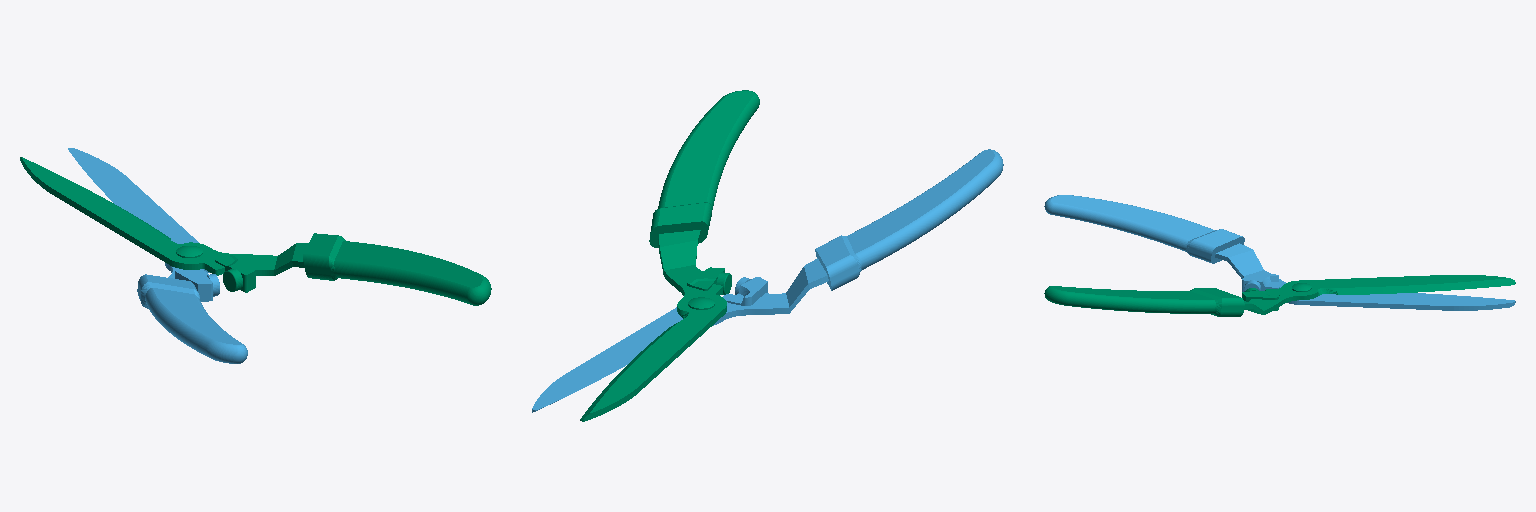
URDF robot description (partnet_1133b046-84e1-40d4-ab94-548fe59fb8f0):
<?xml version="1.0" ?>
<robot name="partnet_1133b046-84e1-40d4-ab94-548fe59fb8f0">
	<link name="base"/>
	<link name="link_0">
		<visual name="other_leaf-13">
			<origin xyz="0.2005842114635701 0.02750199361465766 0.012073427209372878"/>
			<geometry>
				<mesh filename="textured_objs/original-10.obj"/>
			</geometry>
		</visual>
		<visual name="other_leaf-13">
			<origin xyz="0.2005842114635701 0.02750199361465766 0.012073427209372878"/>
			<geometry>
				<mesh filename="textured_objs/original-8.obj"/>
			</geometry>
		</visual>
		<visual name="other_leaf-13">
			<origin xyz="0.2005842114635701 0.02750199361465766 0.012073427209372878"/>
			<geometry>
				<mesh filename="textured_objs/original-9.obj"/>
			</geometry>
		</visual>
		<visual name="blade-4">
			<origin xyz="0.2005842114635701 0.02750199361465766 0.012073427209372878"/>
			<geometry>
				<mesh filename="textured_objs/original-4.obj"/>
			</geometry>
		</visual>
		<visual name="blade-4">
			<origin xyz="0.2005842114635701 0.02750199361465766 0.012073427209372878"/>
			<geometry>
				<mesh filename="textured_objs/original-3.obj"/>
			</geometry>
		</visual>
		<visual name="handle-5">
			<origin xyz="0.2005842114635701 0.02750199361465766 0.012073427209372878"/>
			<geometry>
				<mesh filename="textured_objs/original-26.obj"/>
			</geometry>
		</visual>
		<visual name="handle-5">
			<origin xyz="0.2005842114635701 0.02750199361465766 0.012073427209372878"/>
			<geometry>
				<mesh filename="textured_objs/original-27.obj"/>
			</geometry>
		</visual>
		<visual name="handle-5">
			<origin xyz="0.2005842114635701 0.02750199361465766 0.012073427209372878"/>
			<geometry>
				<mesh filename="textured_objs/original-28.obj"/>
			</geometry>
		</visual>
		<collision>
			<origin xyz="0.2005842114635701 0.02750199361465766 0.012073427209372878"/>
			<geometry>
				<mesh filename="textured_objs/original-10.obj"/>
			</geometry>
		</collision>
		<collision>
			<origin xyz="0.2005842114635701 0.02750199361465766 0.012073427209372878"/>
			<geometry>
				<mesh filename="textured_objs/original-8.obj"/>
			</geometry>
		</collision>
		<collision>
			<origin xyz="0.2005842114635701 0.02750199361465766 0.012073427209372878"/>
			<geometry>
				<mesh filename="textured_objs/original-9.obj"/>
			</geometry>
		</collision>
		<collision>
			<origin xyz="0.2005842114635701 0.02750199361465766 0.012073427209372878"/>
			<geometry>
				<mesh filename="textured_objs/original-4.obj"/>
			</geometry>
		</collision>
		<collision>
			<origin xyz="0.2005842114635701 0.02750199361465766 0.012073427209372878"/>
			<geometry>
				<mesh filename="textured_objs/original-3.obj"/>
			</geometry>
		</collision>
		<collision>
			<origin xyz="0.2005842114635701 0.02750199361465766 0.012073427209372878"/>
			<geometry>
				<mesh filename="textured_objs/original-26.obj"/>
			</geometry>
		</collision>
		<collision>
			<origin xyz="0.2005842114635701 0.02750199361465766 0.012073427209372878"/>
			<geometry>
				<mesh filename="textured_objs/original-27.obj"/>
			</geometry>
		</collision>
		<collision>
			<origin xyz="0.2005842114635701 0.02750199361465766 0.012073427209372878"/>
			<geometry>
				<mesh filename="textured_objs/original-28.obj"/>
			</geometry>
		</collision>
	</link>
	<joint name="joint_0" type="revolute">
		<origin xyz="-0.2005842114635701 -0.02750199361465766 -0.012073427209372878"/>
		<axis xyz="0 -1 0"/>
		<child link="link_0"/>
		<parent link="link_1"/>
		<limit lower="-0.1759291886010284" upper="-0.0"/>
	</joint>
	<link name="link_1">
		<visual name="screw-3">
			<origin xyz="0 0 0"/>
			<geometry>
				<mesh filename="textured_objs/original-1.obj"/>
			</geometry>
		</visual>
		<visual name="screw-3">
			<origin xyz="0 0 0"/>
			<geometry>
				<mesh filename="textured_objs/original-24.obj"/>
			</geometry>
		</visual>
		<visual name="screw-3">
			<origin xyz="0 0 0"/>
			<geometry>
				<mesh filename="textured_objs/original-16.obj"/>
			</geometry>
		</visual>
		<visual name="screw-3">
			<origin xyz="0 0 0"/>
			<geometry>
				<mesh filename="textured_objs/original-5.obj"/>
			</geometry>
		</visual>
		<visual name="other_leaf-11">
			<origin xyz="0 0 0"/>
			<geometry>
				<mesh filename="textured_objs/original-15.obj"/>
			</geometry>
		</visual>
		<visual name="other_leaf-11">
			<origin xyz="0 0 0"/>
			<geometry>
				<mesh filename="textured_objs/original-13.obj"/>
			</geometry>
		</visual>
		<visual name="other_leaf-11">
			<origin xyz="0 0 0"/>
			<geometry>
				<mesh filename="textured_objs/original-14.obj"/>
			</geometry>
		</visual>
		<visual name="blade-6">
			<origin xyz="0 0 0"/>
			<geometry>
				<mesh filename="textured_objs/original-23.obj"/>
			</geometry>
		</visual>
		<visual name="blade-6">
			<origin xyz="0 0 0"/>
			<geometry>
				<mesh filename="textured_objs/original-22.obj"/>
			</geometry>
		</visual>
		<visual name="handle-7">
			<origin xyz="0 0 0"/>
			<geometry>
				<mesh filename="textured_objs/original-18.obj"/>
			</geometry>
		</visual>
		<visual name="handle-7">
			<origin xyz="0 0 0"/>
			<geometry>
				<mesh filename="textured_objs/original-20.obj"/>
			</geometry>
		</visual>
		<visual name="handle-7">
			<origin xyz="0 0 0"/>
			<geometry>
				<mesh filename="textured_objs/original-19.obj"/>
			</geometry>
		</visual>
		<collision>
			<origin xyz="0 0 0"/>
			<geometry>
				<mesh filename="textured_objs/original-1.obj"/>
			</geometry>
		</collision>
		<collision>
			<origin xyz="0 0 0"/>
			<geometry>
				<mesh filename="textured_objs/original-24.obj"/>
			</geometry>
		</collision>
		<collision>
			<origin xyz="0 0 0"/>
			<geometry>
				<mesh filename="textured_objs/original-16.obj"/>
			</geometry>
		</collision>
		<collision>
			<origin xyz="0 0 0"/>
			<geometry>
				<mesh filename="textured_objs/original-5.obj"/>
			</geometry>
		</collision>
		<collision>
			<origin xyz="0 0 0"/>
			<geometry>
				<mesh filename="textured_objs/original-15.obj"/>
			</geometry>
		</collision>
		<collision>
			<origin xyz="0 0 0"/>
			<geometry>
				<mesh filename="textured_objs/original-13.obj"/>
			</geometry>
		</collision>
		<collision>
			<origin xyz="0 0 0"/>
			<geometry>
				<mesh filename="textured_objs/original-14.obj"/>
			</geometry>
		</collision>
		<collision>
			<origin xyz="0 0 0"/>
			<geometry>
				<mesh filename="textured_objs/original-23.obj"/>
			</geometry>
		</collision>
		<collision>
			<origin xyz="0 0 0"/>
			<geometry>
				<mesh filename="textured_objs/original-22.obj"/>
			</geometry>
		</collision>
		<collision>
			<origin xyz="0 0 0"/>
			<geometry>
				<mesh filename="textured_objs/original-18.obj"/>
			</geometry>
		</collision>
		<collision>
			<origin xyz="0 0 0"/>
			<geometry>
				<mesh filename="textured_objs/original-20.obj"/>
			</geometry>
		</collision>
		<collision>
			<origin xyz="0 0 0"/>
			<geometry>
				<mesh filename="textured_objs/original-19.obj"/>
			</geometry>
		</collision>
	</link>
	<joint name="joint_1" type="fixed">
		<origin rpy="1.570796326794897 0 -1.570796326794897" xyz="0 0 0"/>
		<child link="link_1"/>
		<parent link="base"/>
	</joint>
</robot>

--- Facts derived from the render (not from the file) ---
Views: 3 orthographic renders of the robot side by side, from view 1: azimuth 30°, elevation 25°; view 2: azimuth 150°, elevation 25°; view 3: azimuth 270°, elevation 25°.
Model partnet_1133b046-84e1-40d4-ab94-548fe59fb8f0 with 3 links and 2 joints (1 revolute, 1 fixed), rooted at base, posed every joint at zero.
Links seen in each view (by area): view 1: link_1, link_0; view 2: link_1, link_0; view 3: link_0, link_1.
Link boxes in pixels (left/top/right/bottom): link_1: left=20, top=157, right=491, bottom=305; link_0: left=68, top=148, right=247, bottom=363; link_1: left=580, top=90, right=759, bottom=421; link_0: left=532, top=149, right=1003, bottom=412; link_0: left=1044, top=195, right=1515, bottom=310; link_1: left=1044, top=275, right=1515, bottom=316.
Bounding box of the posed robot: 0.9227 × 1.8 × 0.2438 m (x, y, z).
Meshes: 20 distinct files referenced, 20 mesh visuals loaded (20 OBJ).
